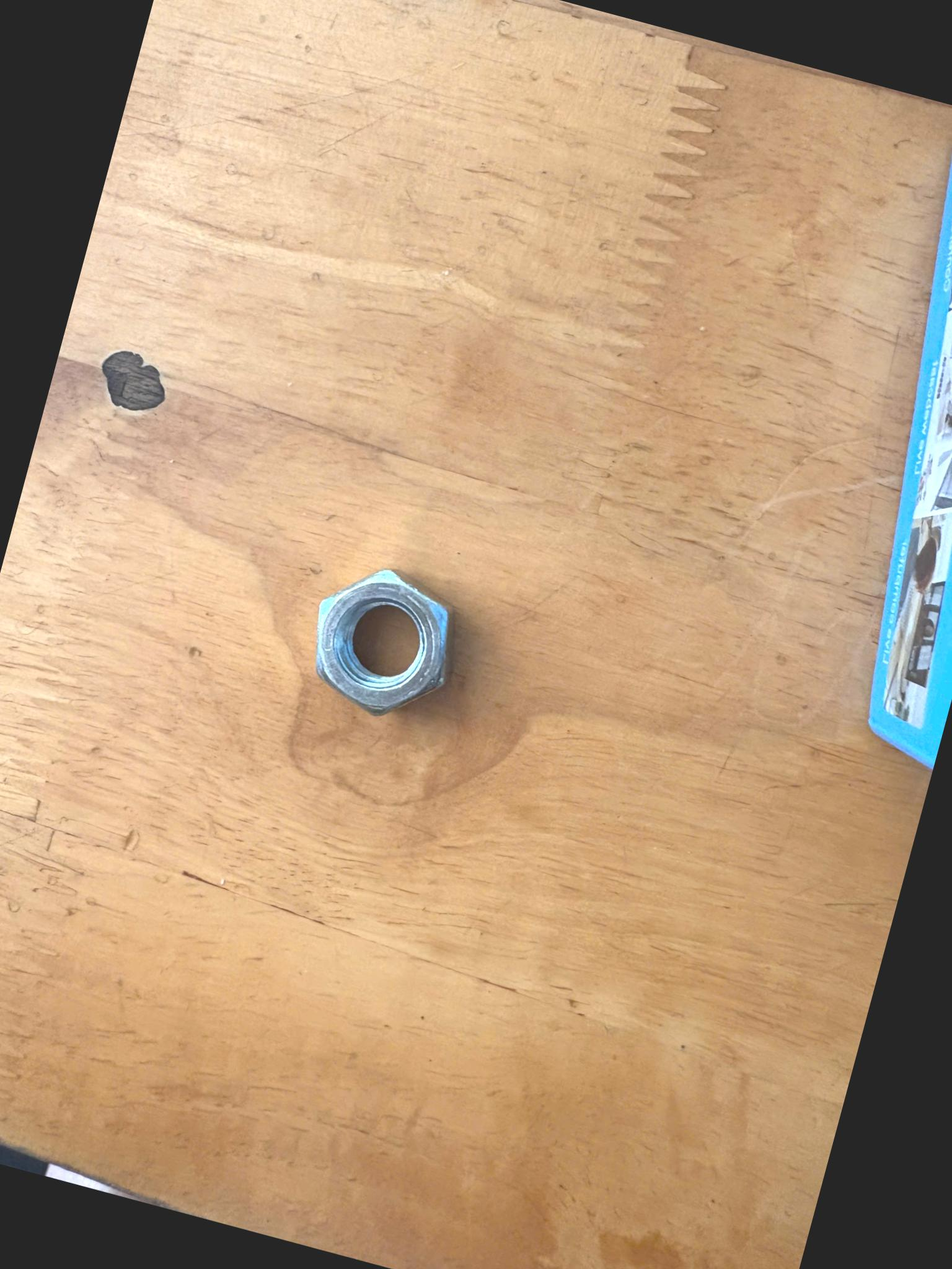nut: (278, 528, 500, 746)
